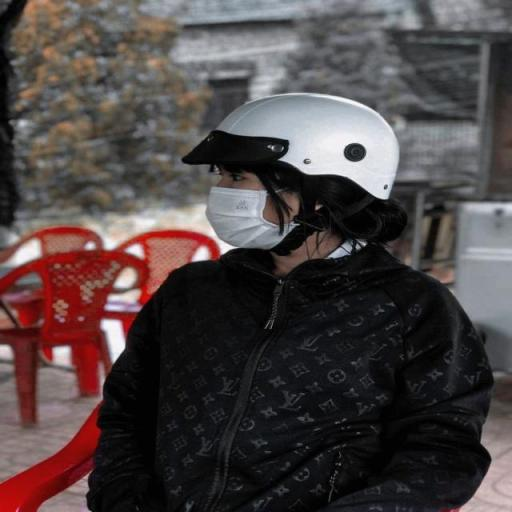with helmet: (181, 86, 406, 204)
